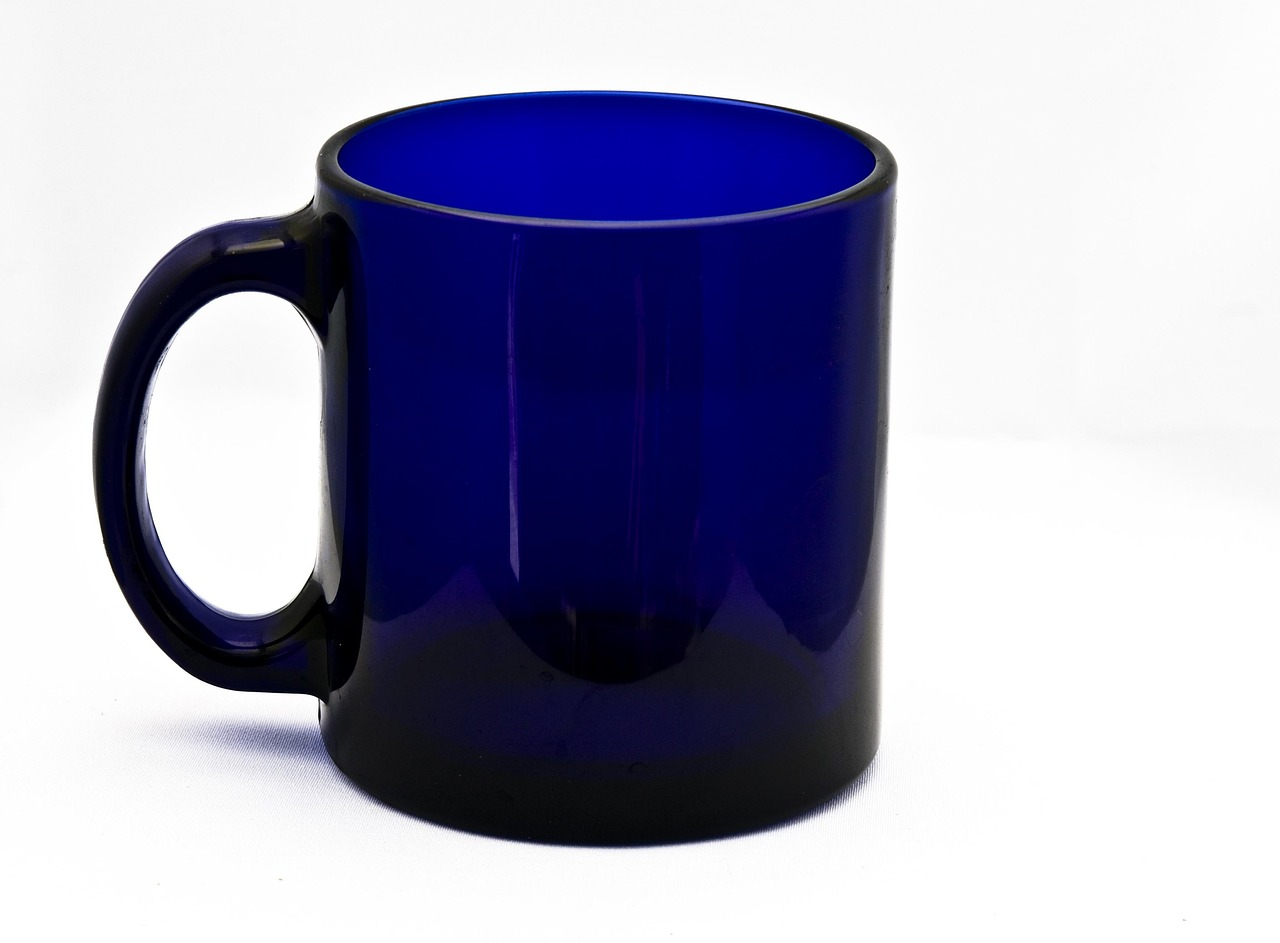mug: (66, 69, 940, 871)
